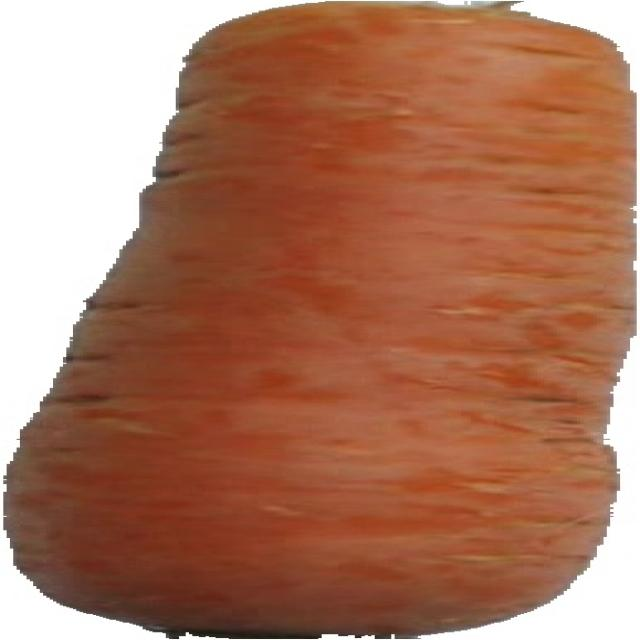carrot: (9, 2, 629, 638)
